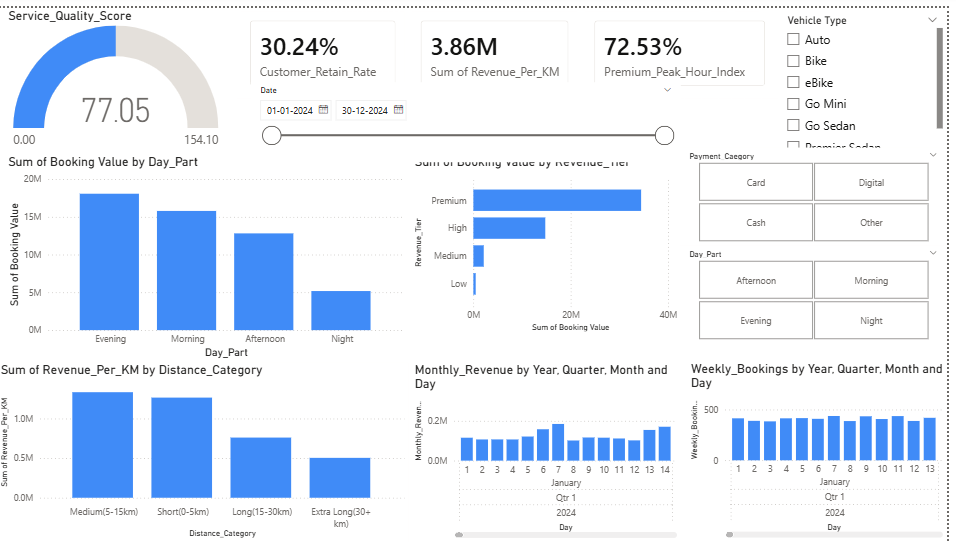

The page's visual inventory and layout, read from the dashboard file:
{"tool":"powerbi","page":{"name":"Summary","canvas":[1280,720],"ordinal":6},"visuals":[{"type":"gauge","fields":{"Y":["rideBookings.Service_Quality_Score"]},"box":[10.7,0,300.9,198.5],"z":0},{"type":"cardVisual","fields":{"Data":["rideBookings.Customer_Retain_Rate"]},"box":[323.8,0,230.6,122.2],"z":1000},{"type":"cardVisual","fields":{"Data":["Sum(rideBookings.Revenue_Per_KM)"]},"box":[554.4,0,233.7,122.2],"z":2000},{"type":"cardVisual","fields":{"Data":["rideBookings.Premium_Peak_Hour_Index"]},"box":[788,0,264.2,122.2],"z":3000},{"type":"clusteredColumnChart","fields":{"Category":["rideBookings.Day_Part"],"Y":["Sum(rideBookings.Booking Value)"]},"box":[10.7,198.5,543.7,279.5],"z":4000},{"type":"clusteredBarChart","fields":{"Category":["rideBookings.Revenue_Tier"],"Y":["Sum(rideBookings.Booking Value)"]},"box":[557.4,198.5,363.5,242.8],"z":5000},{"type":"clusteredColumnChart","fields":{"Y":["Sum(rideBookings.Revenue_Per_KM)"],"Category":["rideBookings.Distance_Category"]},"box":[0,478,554.4,241.3],"z":6000},{"type":"lineStackedColumnComboChart","fields":{"Y":["rideBookings.Monthly_Revenue"],"Category":["rideBookings.Date.Variation.Date Hierarchy.Year","rideBookings.Date.Variation.Date Hierarchy.Quarter","rideBookings.Date.Variation.Date Hierarchy.Month","rideBookings.Date.Variation.Date Hierarchy.Day"]},"box":[557.4,478,363.5,241.3],"z":7000},{"type":"lineClusteredColumnComboChart","fields":{"Y":["rideBookings.Weekly_Bookings"],"Category":["rideBookings.Date.Variation.Date Hierarchy.Year","rideBookings.Date.Variation.Date Hierarchy.Quarter","rideBookings.Date.Variation.Date Hierarchy.Month","rideBookings.Date.Variation.Date Hierarchy.Day"]},"box":[930.1,476.5,349.7,242.8],"z":8000},{"type":"slicer","fields":{"Values":["rideBookings.Date"]},"box":[342.1,99.3,578.8,106.9],"z":9000},{"type":"slicer","fields":{"Values":["rideBookings.Vehicle Type"]},"box":[1052.2,4.6,227.6,194],"z":10000},{"type":"slicer","fields":{"Values":["rideBookings.Payment_Caegory"]},"box":[920.9,187.8,358.9,132.9],"z":11000},{"type":"slicer","fields":{"Values":["rideBookings.Day_Part"]},"box":[920.9,320.7,358.9,132.9],"z":12000}]}

Visuals, with their boxes in screenshot pixels (x1, y1, x2, y2), scaled from the page's 1280x720 canvas onto the 956x542 screenshot:
gauge - rideBookings.Service_Quality_Score: <region>8, 0, 233, 149</region>
cardVisual - rideBookings.Customer_Retain_Rate: <region>242, 0, 414, 92</region>
cardVisual - Sum(rideBookings.Revenue_Per_KM): <region>414, 0, 589, 92</region>
cardVisual - rideBookings.Premium_Peak_Hour_Index: <region>589, 0, 786, 92</region>
clusteredColumnChart - rideBookings.Day_Part x Sum(rideBookings.Booking Value): <region>8, 149, 414, 360</region>
clusteredBarChart - rideBookings.Revenue_Tier x Sum(rideBookings.Booking Value): <region>416, 149, 688, 332</region>
clusteredColumnChart - Sum(rideBookings.Revenue_Per_KM) x rideBookings.Distance_Category: <region>0, 360, 414, 541</region>
lineStackedColumnComboChart - rideBookings.Monthly_Revenue x rideBookings.Date.Variation.Date Hierarchy.Year: <region>416, 360, 688, 541</region>
lineClusteredColumnComboChart - rideBookings.Weekly_Bookings x rideBookings.Date.Variation.Date Hierarchy.Year: <region>695, 359, 955, 541</region>
slicer - rideBookings.Date: <region>256, 75, 688, 155</region>
slicer - rideBookings.Vehicle Type: <region>786, 3, 955, 150</region>
slicer - rideBookings.Payment_Caegory: <region>688, 141, 955, 241</region>
slicer - rideBookings.Day_Part: <region>688, 241, 955, 341</region>
